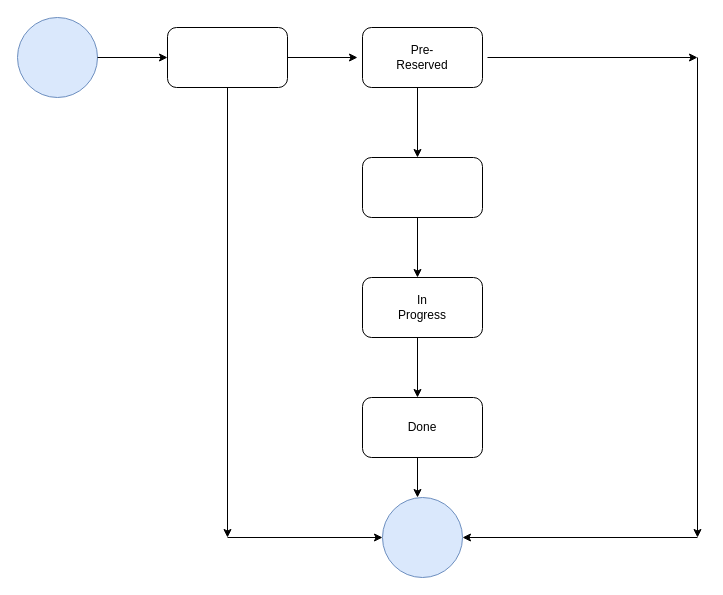
Some shapes in this 723 by 595 pixel diagram are drawn without their labels. The shapes that lost their labels are listed below. From the top down, each one's centre as x and y in pixels, then its label:
point 227,57: Initiated
point 422,187: Confirmed
